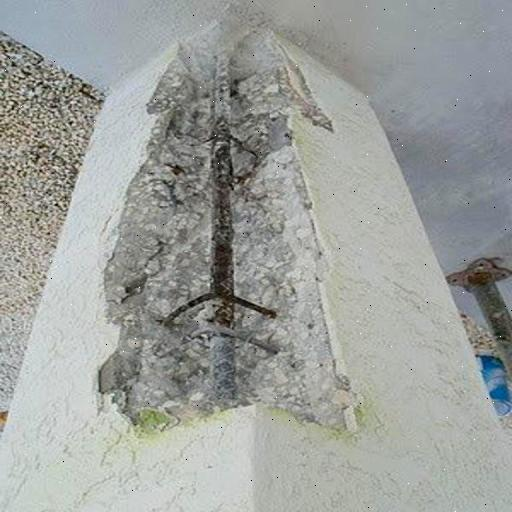spalling: (96, 20, 345, 431)
